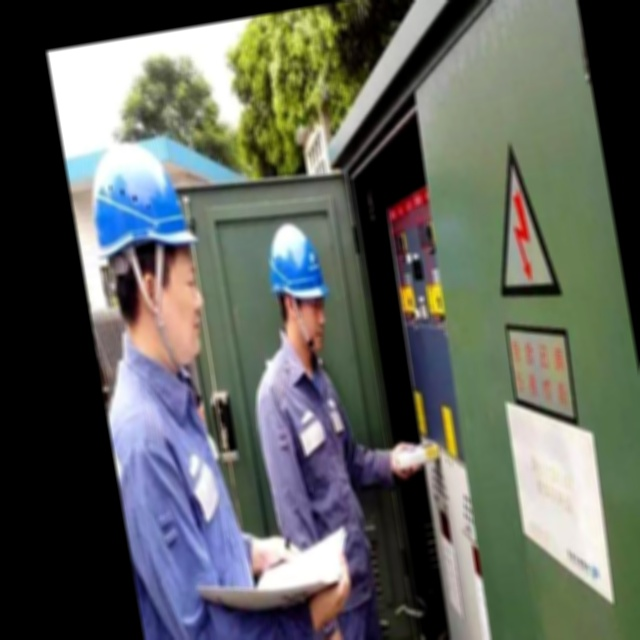Con_Casco: (260, 227, 335, 361)
